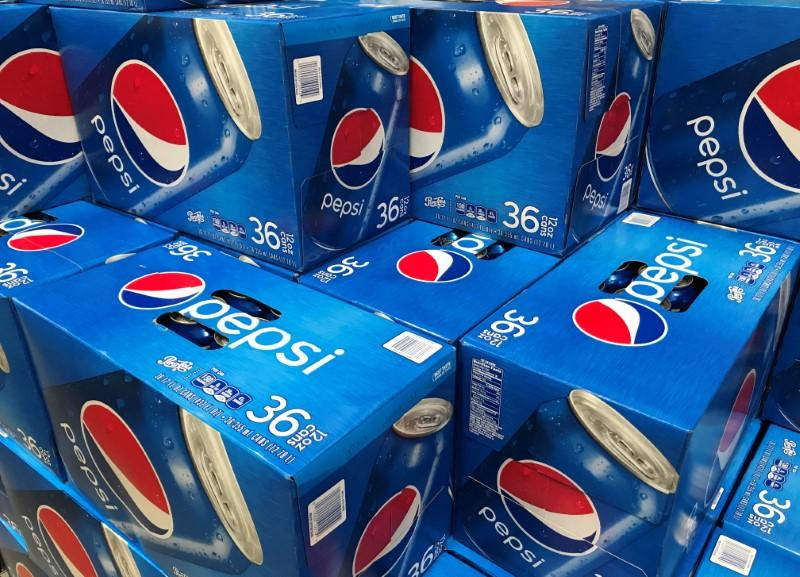pepsi: (73, 393, 174, 540), (76, 397, 174, 540), (495, 448, 600, 561), (103, 60, 194, 184), (503, 448, 600, 561), (2, 49, 88, 162), (737, 57, 798, 190), (349, 483, 424, 575), (358, 483, 424, 575), (358, 494, 424, 575), (569, 292, 668, 346), (569, 295, 668, 346), (328, 103, 383, 188), (36, 500, 98, 575), (409, 53, 443, 171), (117, 269, 206, 308), (597, 89, 632, 178), (395, 246, 473, 283), (9, 224, 83, 251)
